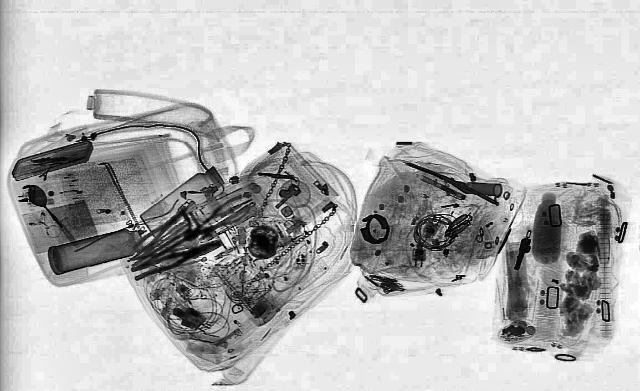Pliers: (122, 237, 228, 280), (173, 194, 259, 244), (128, 205, 196, 252)
